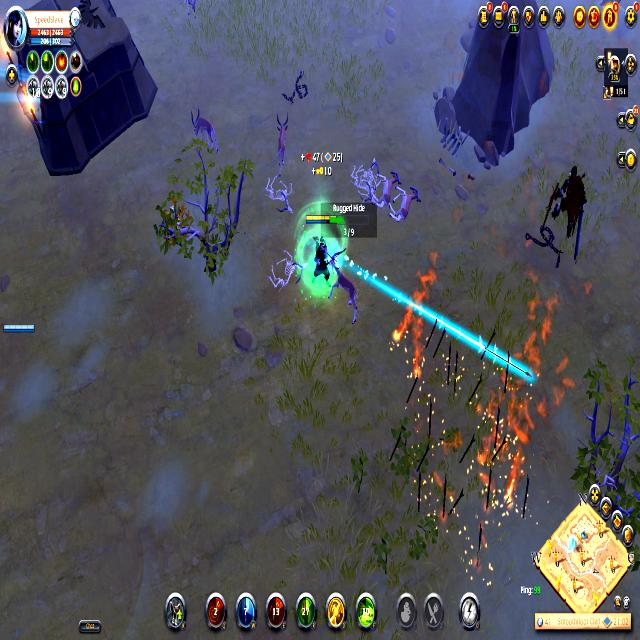mob: (388, 185, 422, 226), (372, 168, 402, 208)
ore: (546, 160, 591, 264), (325, 250, 365, 330), (187, 105, 224, 156), (274, 108, 292, 181)
red: (302, 209, 338, 288), (1, 321, 36, 338)
